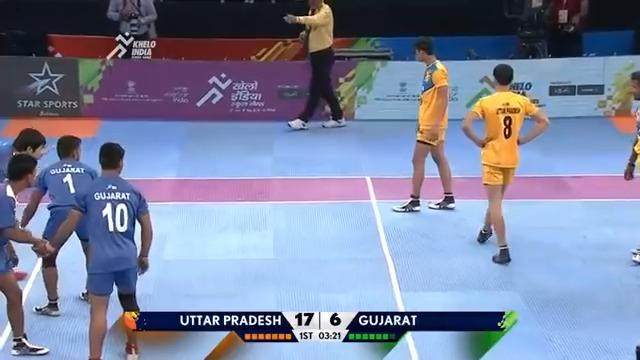Player: (35, 141, 153, 359), (461, 63, 550, 264), (19, 134, 98, 316), (391, 36, 455, 212), (0, 152, 54, 356), (282, 0, 347, 130), (610, 69, 639, 265)
referee: (505, 0, 553, 58), (543, 0, 588, 57), (105, 0, 158, 41)
